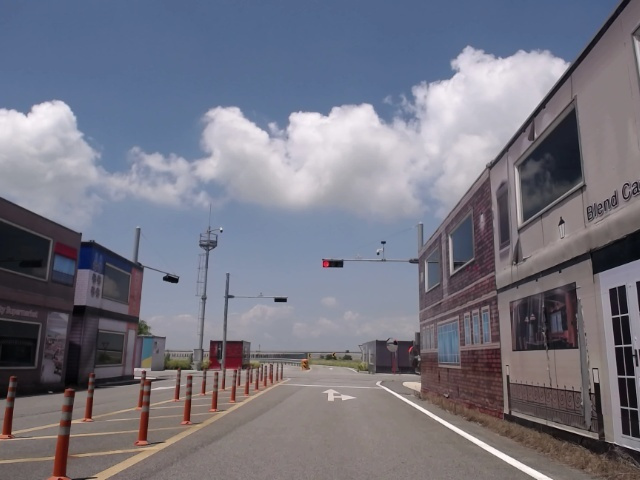red_3: (322, 259, 344, 268)
